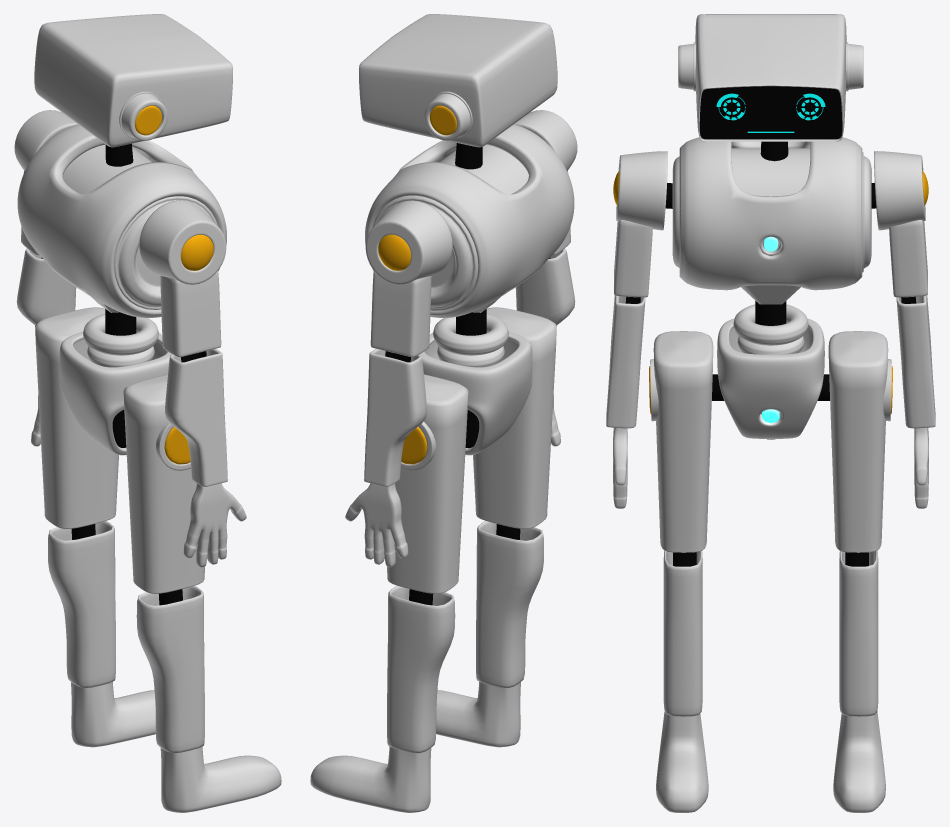
File: sci_fi_robot.glb
3 renders of one model, left to right at view 1: azimuth 30°, elevation 25°; view 2: azimuth 150°, elevation 25°; view 3: azimuth 270°, elevation 25°, orthographic.
Parts seen in each view (by area): view 1: Object_6, Object_5, Object_2; view 2: Object_6, Object_5, Object_2; view 3: Object_6, Object_5, Object_4.
Part boxes in pixels (x1,y1,x2,y2): Object_6: [14, 14, 281, 812]; Object_5: [41, 143, 206, 605]; Object_2: [135, 105, 213, 464]; Object_6: [310, 14, 577, 812]; Object_5: [385, 143, 550, 605]; Object_2: [378, 105, 456, 464]; Object_6: [606, 14, 935, 812]; Object_5: [625, 86, 916, 566]; Object_4: [716, 93, 825, 132].
Size of the model in its own units: 7.43 by 29.44 by 12.07.
Materials: 6 (3 with a texture image).
